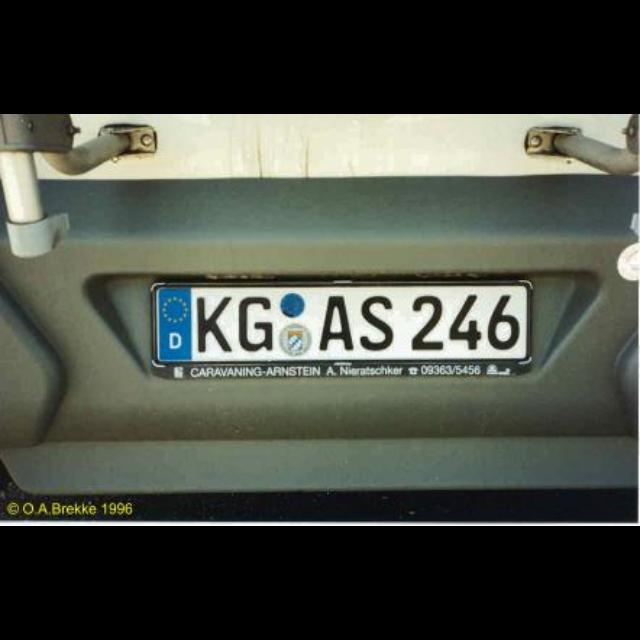d_license_plate: (155, 286, 527, 358)
